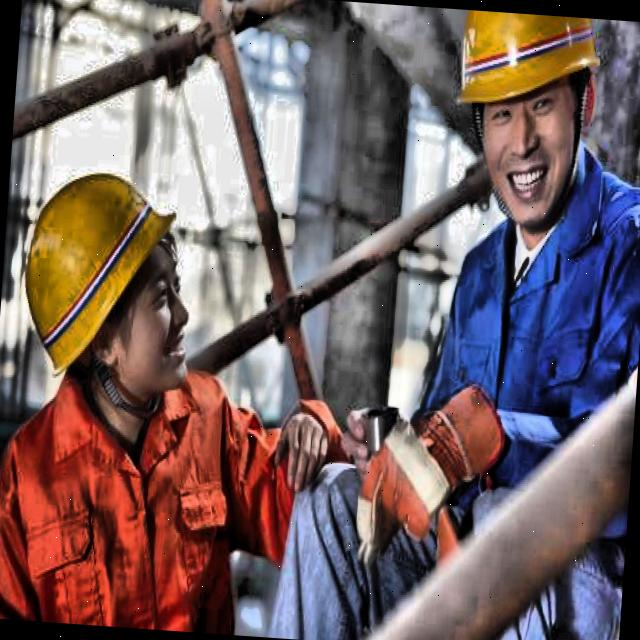helmet: (0, 128, 214, 453), (439, 8, 617, 240)
